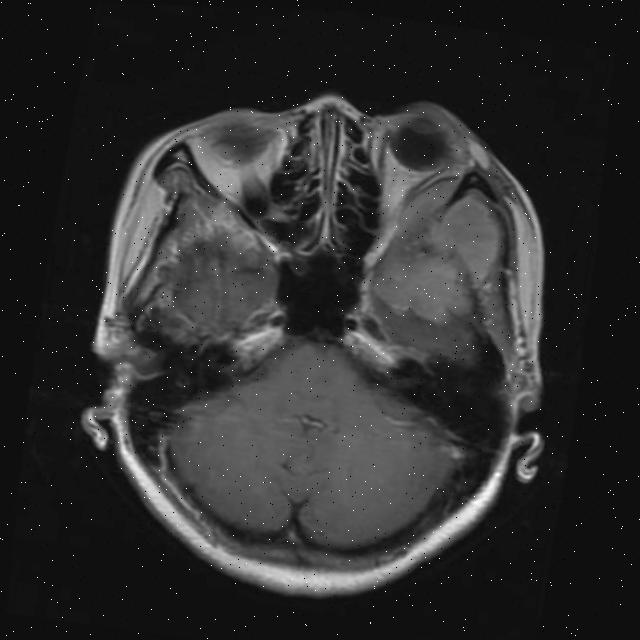Meningioma: (368, 247, 481, 329)
